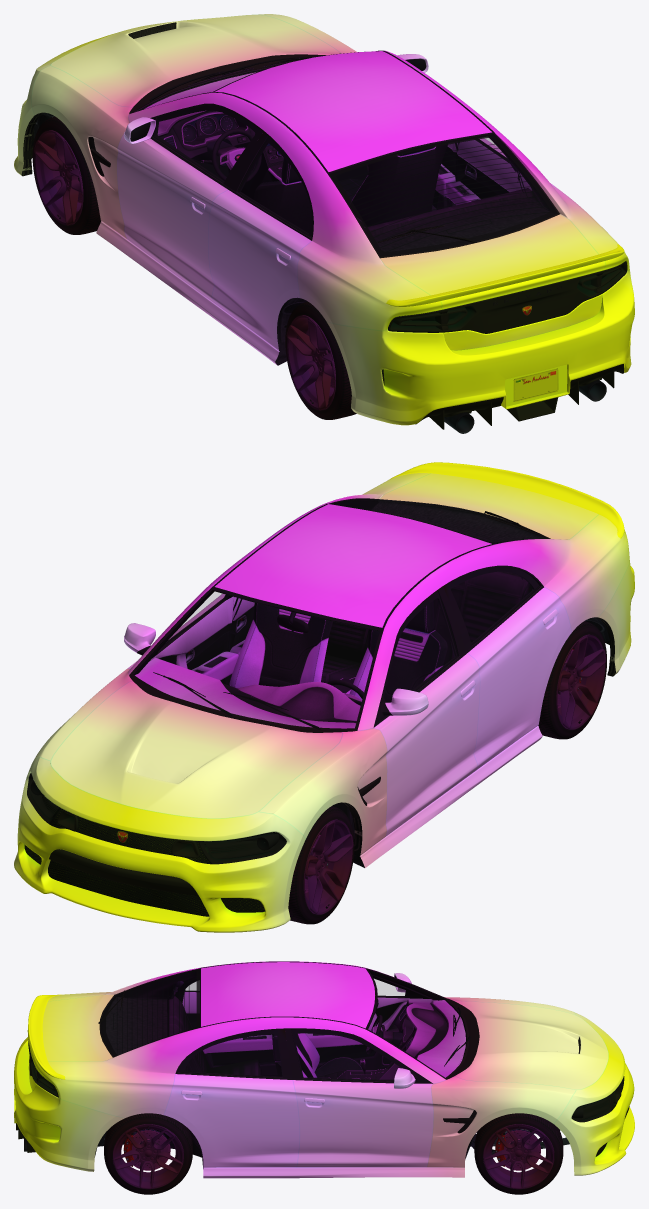
The model's file is buffalo4.glb.
The picture shows the model from 3 angles, top to bottom: view 1: azimuth 30°, elevation 25°; view 2: azimuth 150°, elevation 25°; view 3: azimuth 270°, elevation 25°; orthographic projection. The views are drawn at different scales.
Visible parts, largest first — view 1: bodyshell, bumper_r, misc_r, windscreen_r, boot, chassis, bonnet, door_dside_f, door_dside_r, misc_s, wing_lf, wheel_lr (+10 smaller); view 2: bumper_f, bonnet, bodyshell, chassis, misc_r, door_dside_f, door_dside_r, misc_s, wing_lf, boot, wheel_lr, wheel_lf (+12 smaller); view 3: bodyshell, door_pside_f, chassis, door_pside_r, bonnet, misc_r, wing_rf, bumper_r, bumper_f, windscreen_r, wheel_rr, wheel_rf (+10 smaller).
Boxes of the visible parts, x1,y1,x2,y2 form: bodyshell: (96, 50, 629, 365); bumper_r: (327, 270, 634, 429); misc_r: (215, 51, 491, 171); windscreen_r: (329, 134, 557, 256); boot: (380, 214, 605, 350); chassis: (34, 51, 557, 365); bonnet: (50, 14, 340, 107); door_dside_f: (117, 103, 263, 303); door_dside_r: (208, 131, 313, 350); misc_s: (254, 144, 447, 233); wing_lf: (31, 65, 132, 238); wheel_lr: (285, 301, 356, 419); bumper_f: (14, 757, 305, 932); bonnet: (50, 681, 342, 818); bodyshell: (128, 473, 629, 867); chassis: (44, 498, 609, 867); misc_r: (215, 504, 491, 627); door_dside_f: (373, 586, 480, 835); door_dside_r: (443, 565, 571, 771); misc_s: (229, 600, 447, 702); wing_lf: (259, 728, 387, 855); boot: (380, 473, 598, 539); wheel_lr: (538, 621, 606, 739); wheel_lf: (288, 806, 354, 924); bodyshell: (35, 961, 479, 1178); door_pside_f: (284, 1028, 433, 1167); chassis: (97, 968, 569, 1168); door_pside_r: (164, 1028, 299, 1167); bonnet: (455, 1000, 608, 1089); misc_r: (201, 962, 374, 1028); wing_rf: (427, 1076, 575, 1167); bumper_r: (14, 1037, 124, 1171); bumper_f: (554, 1012, 634, 1175); windscreen_r: (100, 969, 199, 1057); wheel_rr: (104, 1113, 192, 1194); wheel_rf: (474, 1113, 563, 1194).
Size of the model in its own units: 2.05 by 1.45 by 5.03.
23 materials, 23 textured.
